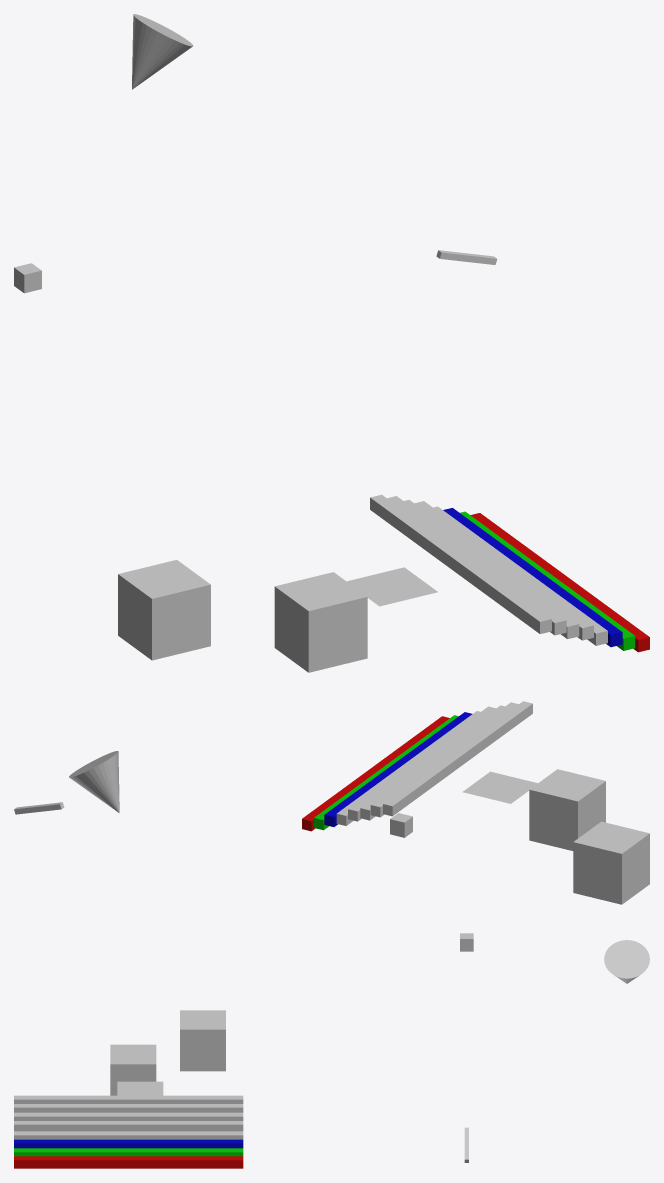
The picture shows the model from 3 angles, top to bottom: view 1: azimuth 30°, elevation 25°; view 2: azimuth 150°, elevation 25°; view 3: azimuth 270°, elevation 25°; orthographic projection. The views are drawn at different scales.
Visible parts, largest first — view 1: Marelle-2_Cube.013, Marelle-3_Cube.014, Marches-6_Cube.012, Cone, Marelle_1_Plane.001, Marches-1_Cube.004, Marches-7_Cube.011, Marches-5_Cube.010, Marches-2_Cube.007, Marches-3_Cube.008, Marches-4_Cube.009, Marche_Cube.003; view 2: Marelle-3_Cube.014, Marelle-2_Cube.013, Marches-6_Cube.012, Cone, Marelle_1_Plane.001, Marches-7_Cube.011, Marches-5_Cube.010, Marches-1_Cube.004, Marches-2_Cube.007, Marches-4_Cube.009, Marches-3_Cube.008, Marche_Cube.003 (+2 smaller); view 3: Marches-2_Cube.007, Marelle-3_Cube.014, Marches-5_Cube.010, Marches-1_Cube.004, Marche_Cube.003, Marches-7_Cube.011, Marches-3_Cube.008, Marches-6_Cube.012, Marches-4_Cube.009, Marelle-2_Cube.013, Cone, Marelle_1_Plane.001.
Part boxes in pixels (box(x1,y1,x2,y2)): Marelle-2_Cube.013: box(274, 572, 367, 672); Marelle-3_Cube.014: box(118, 560, 210, 660); Marches-6_Cube.012: box(370, 494, 551, 633); Cone: box(132, 14, 193, 89); Marelle_1_Plane.001: box(347, 567, 437, 606); Marches-1_Cube.004: box(443, 508, 622, 647); Marches-7_Cube.011: box(387, 496, 566, 635); Marches-5_Cube.010: box(414, 501, 593, 640); Marches-2_Cube.007: box(470, 513, 649, 652); Marches-3_Cube.008: box(460, 511, 635, 650); Marches-4_Cube.009: box(404, 500, 579, 639); Marche_Cube.003: box(433, 506, 607, 645); Marelle-3_Cube.014: box(573, 821, 649, 904); Marelle-2_Cube.013: box(529, 769, 605, 850); Marches-6_Cube.012: box(383, 701, 532, 816); Cone: box(69, 751, 119, 812); Marelle_1_Plane.001: box(462, 771, 537, 803); Marches-7_Cube.011: box(370, 702, 518, 817); Marches-5_Cube.010: box(348, 706, 495, 821); Marches-1_Cube.004: box(324, 712, 472, 826); Marches-2_Cube.007: box(302, 716, 449, 831); Marches-4_Cube.009: box(360, 705, 504, 820); Marches-3_Cube.008: box(314, 715, 458, 830); Marche_Cube.003: box(336, 711, 480, 825); Marches-2_Cube.007: box(14, 1156, 243, 1168); Marelle-3_Cube.014: box(180, 1010, 225, 1071); Marches-5_Cube.010: box(14, 1121, 243, 1131); Marches-1_Cube.004: box(14, 1139, 243, 1148); Marche_Cube.003: box(14, 1131, 243, 1139); Marches-7_Cube.011: box(14, 1104, 243, 1112); Marches-3_Cube.008: box(14, 1148, 243, 1156); Marches-6_Cube.012: box(14, 1095, 243, 1103); Marches-4_Cube.009: box(14, 1112, 243, 1120); Marelle-2_Cube.013: box(110, 1044, 156, 1095); Cone: box(604, 940, 649, 983); Marelle_1_Plane.001: box(117, 1081, 163, 1095).
Size of what is drawn, in the model's own units: 18.89 by 10.41 by 27.73.
